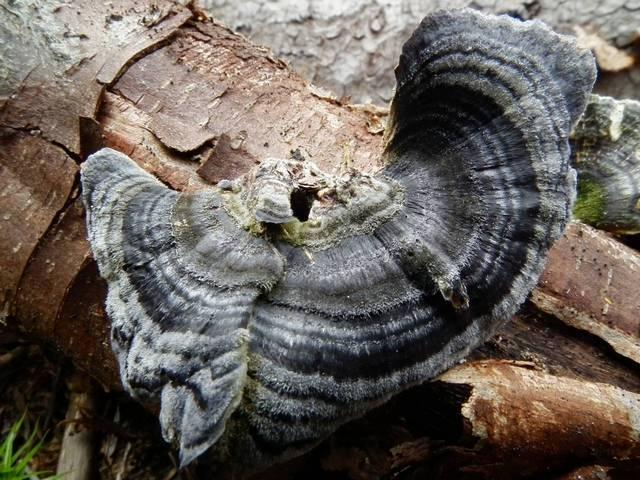Non-edible Mushroom: (76, 7, 598, 472)
